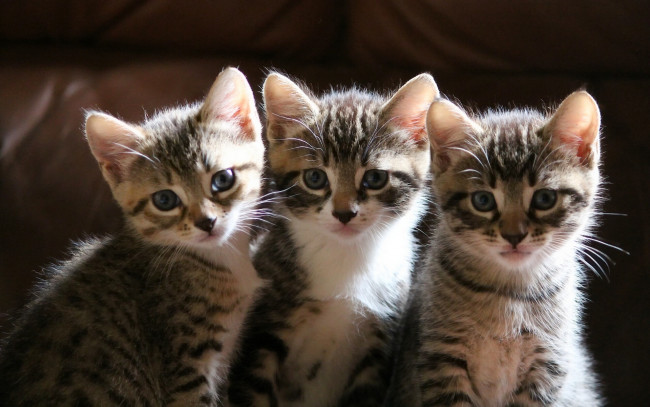cat: (60, 62, 261, 255), (425, 96, 608, 293), (264, 69, 435, 252)
